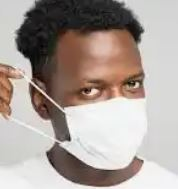with_facemask: (64, 99, 151, 172)
